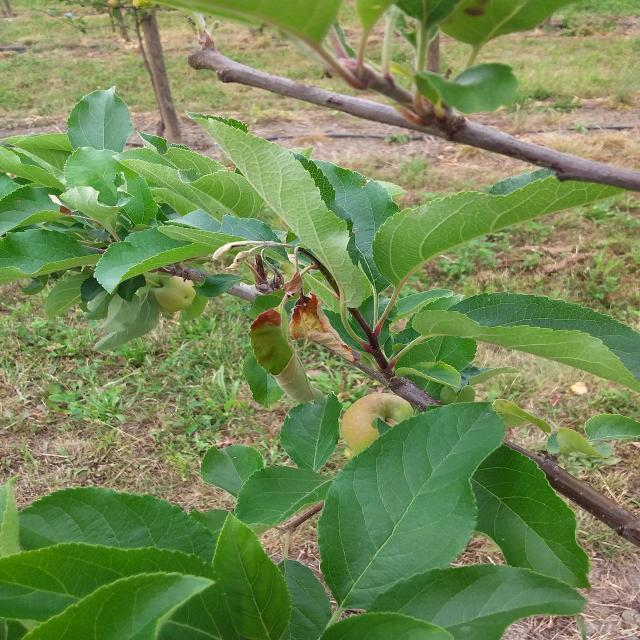-FireBlight-: (236, 235, 354, 397)
